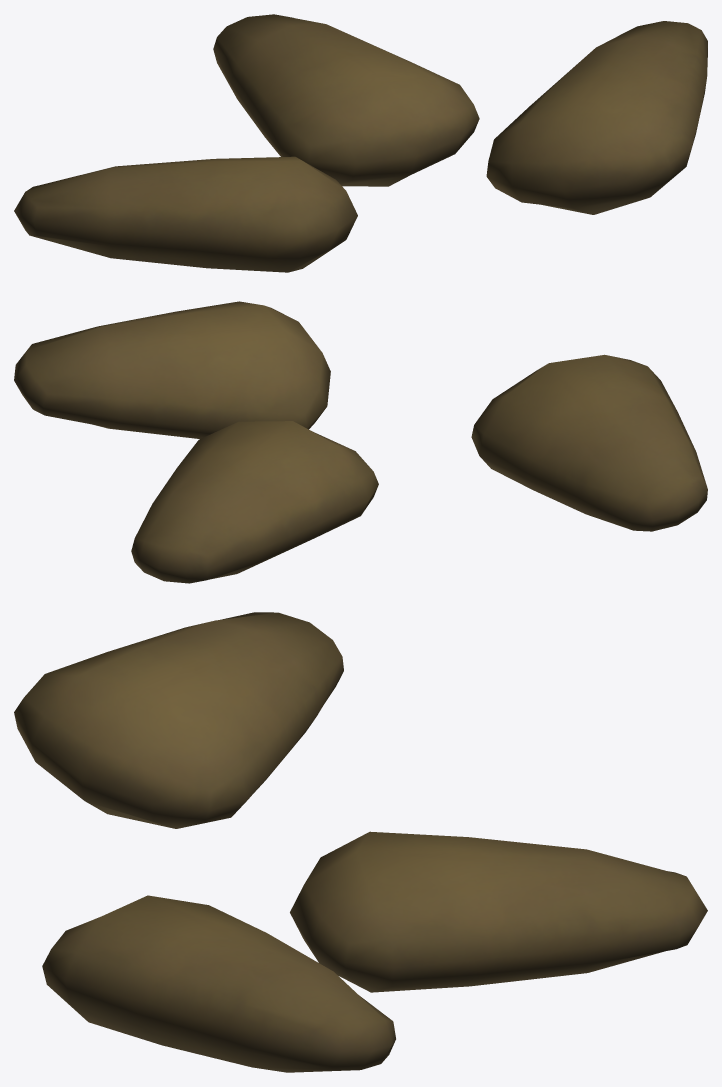
Rendered from Crop_Tomatoes_Stage_01.fbx.
3 views of the same model, one above another, from view 1: azimuth 30°, elevation 25°; view 2: azimuth 150°, elevation 25°; view 3: azimuth 270°, elevation 25° (orthographic). The views are drawn at different scales.
Parts seen in each view (by area): view 1: Tomatoes_Stage_01; view 2: Tomatoes_Stage_01; view 3: Tomatoes_Stage_01.
Part boxes in pixels (<box>): Tomatoes_Stage_01: <box>14,14,707,272</box>; Tomatoes_Stage_01: <box>14,301,707,583</box>; Tomatoes_Stage_01: <box>14,612,707,1072</box>.
Bounding box in the file's own units: 26.51 × 5.03 × 18.72.
